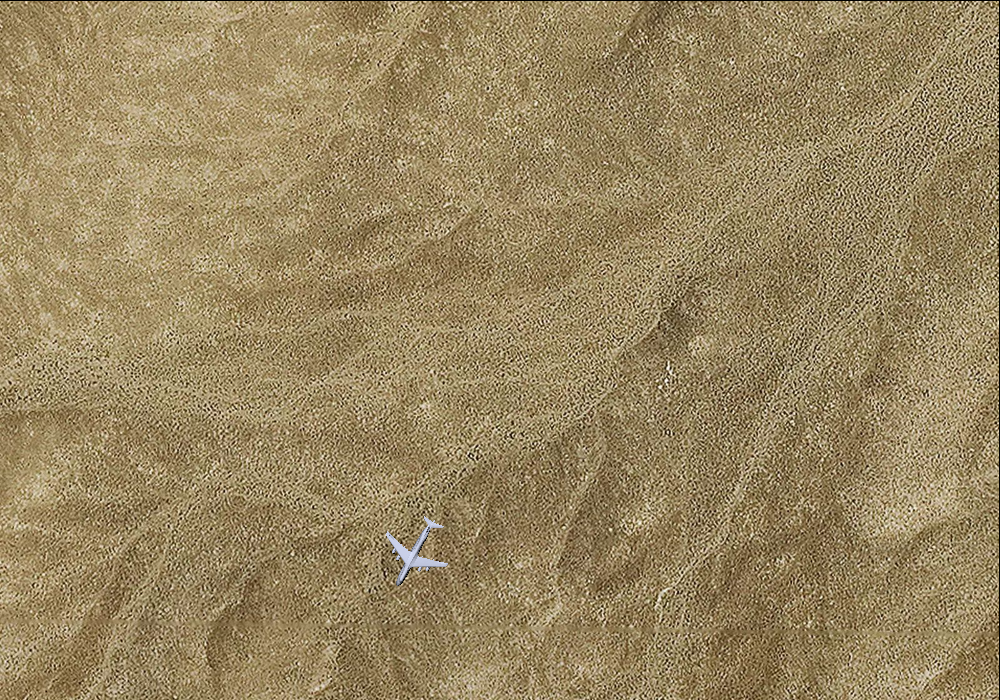plane: (365, 502, 465, 603)
